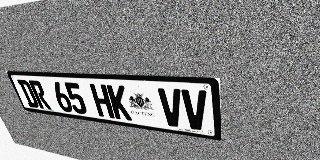5: (64, 82, 89, 115)
6: (50, 81, 74, 113)
D: (17, 80, 40, 108)
H: (89, 84, 115, 118)
K: (106, 85, 132, 121)
R: (28, 80, 52, 110)
V: (181, 89, 208, 131), (157, 88, 184, 128)
